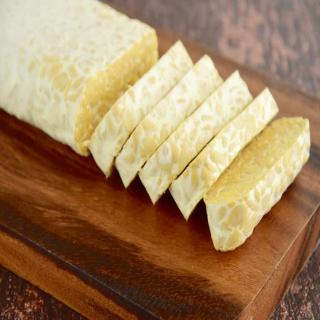Tempe: (139, 69, 255, 206), (87, 39, 195, 179), (169, 87, 280, 222), (204, 116, 312, 253)
